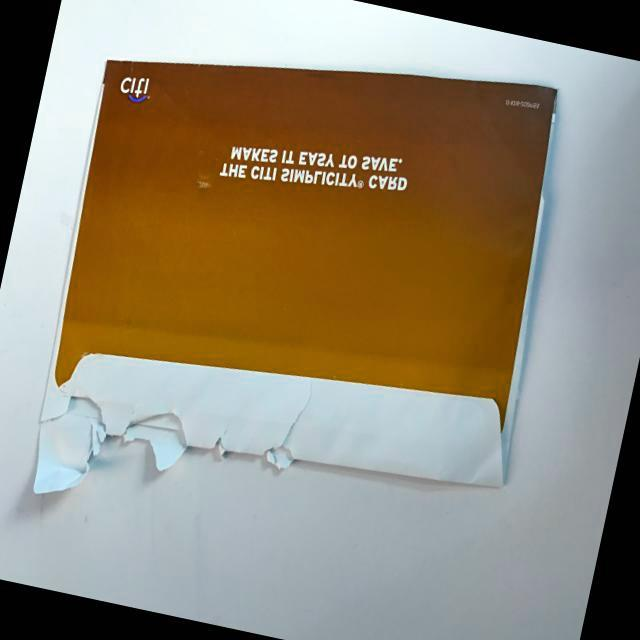paper: (9, 0, 598, 618)
